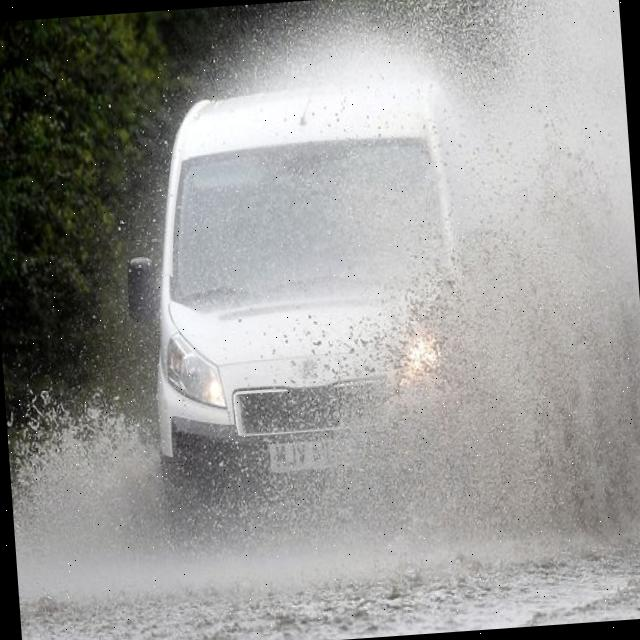car: (112, 64, 480, 565)
